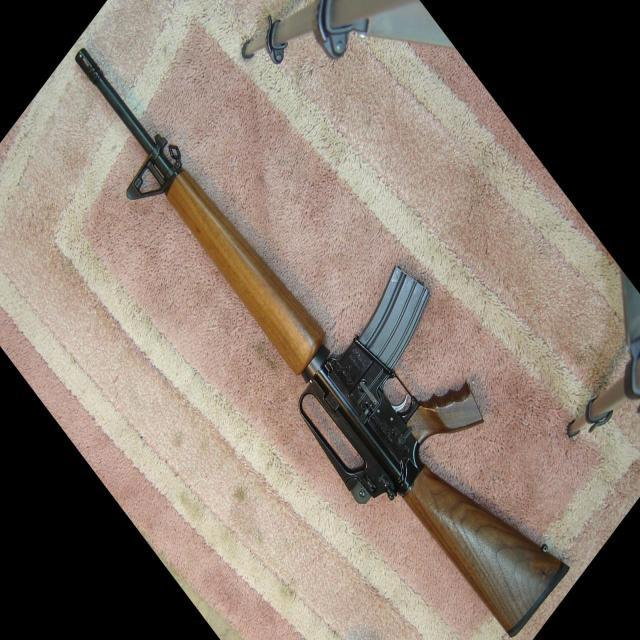weapon: (74, 45, 571, 640)
